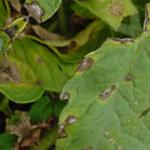Tomato Early blight leaf: (28, 22, 150, 150)
